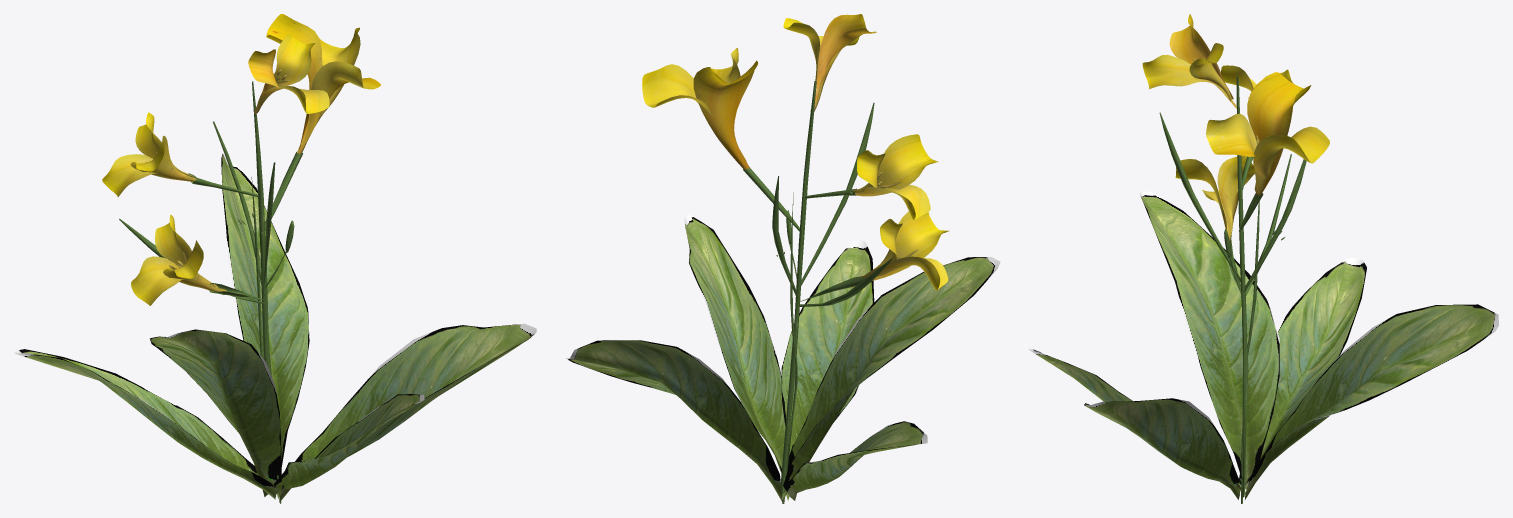
3 renders of one model, left to right at view 1: azimuth 30°, elevation 25°; view 2: azimuth 150°, elevation 25°; view 3: azimuth 270°, elevation 25°, orthographic. The views are drawn at different scales.
Parts seen in each view (by area): view 1: GS PaperWhite; view 2: GS PaperWhite; view 3: GS PaperWhite.
Part boxes in pixels (bbox=[...]): GS PaperWhite: bbox=[14, 14, 536, 503]; GS PaperWhite: bbox=[566, 14, 1000, 503]; GS PaperWhite: bbox=[1029, 14, 1498, 503].
Size of the model in its own units: 0.2267 by 0.2743 by 0.2509.
Materials: 4 (3 with a texture image).
